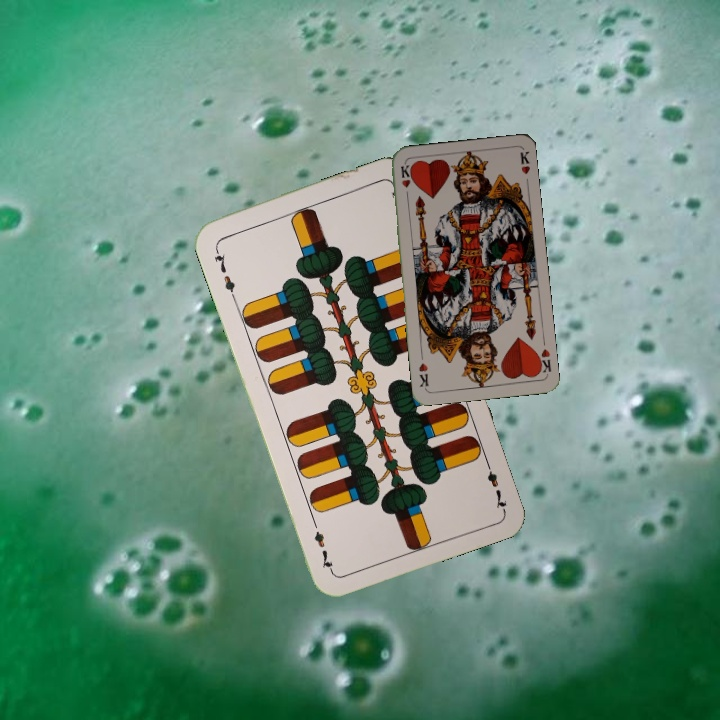E7: (481, 455, 510, 512), (210, 242, 238, 300)
HK: (532, 345, 554, 377), (397, 161, 413, 201)
